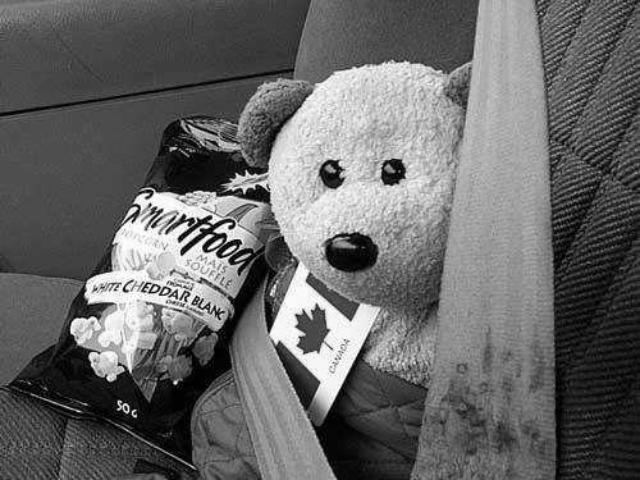Seatbelt: (224, 0, 562, 480)
